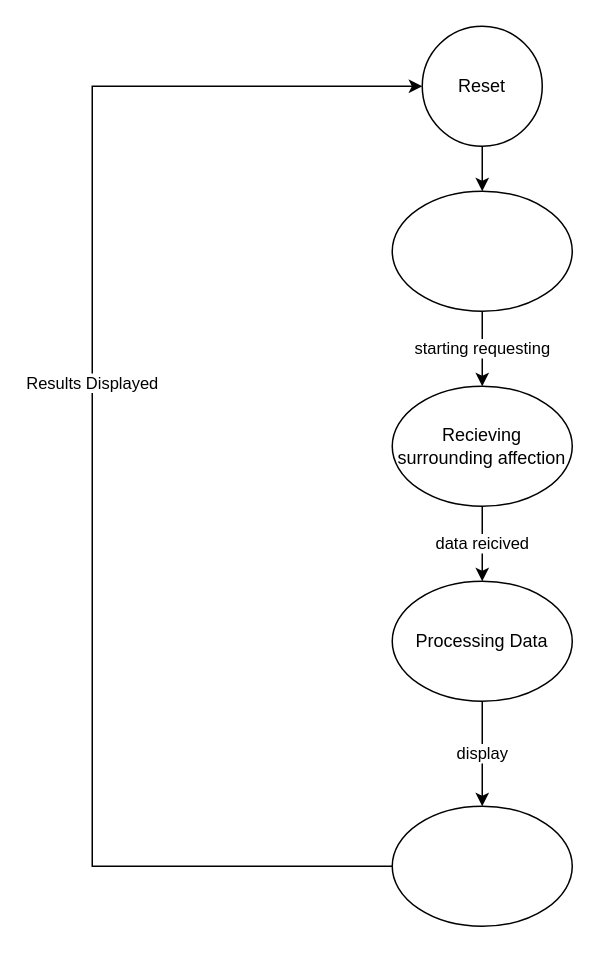
Some shapes in this 599 by 953 pixel diagram are drawn without their labels. The centre of each missing label's shape, as x and y in pixels:
"Detect Motion movement" belongs at [481,250].
"display on 7-segment" belongs at [481,865].
